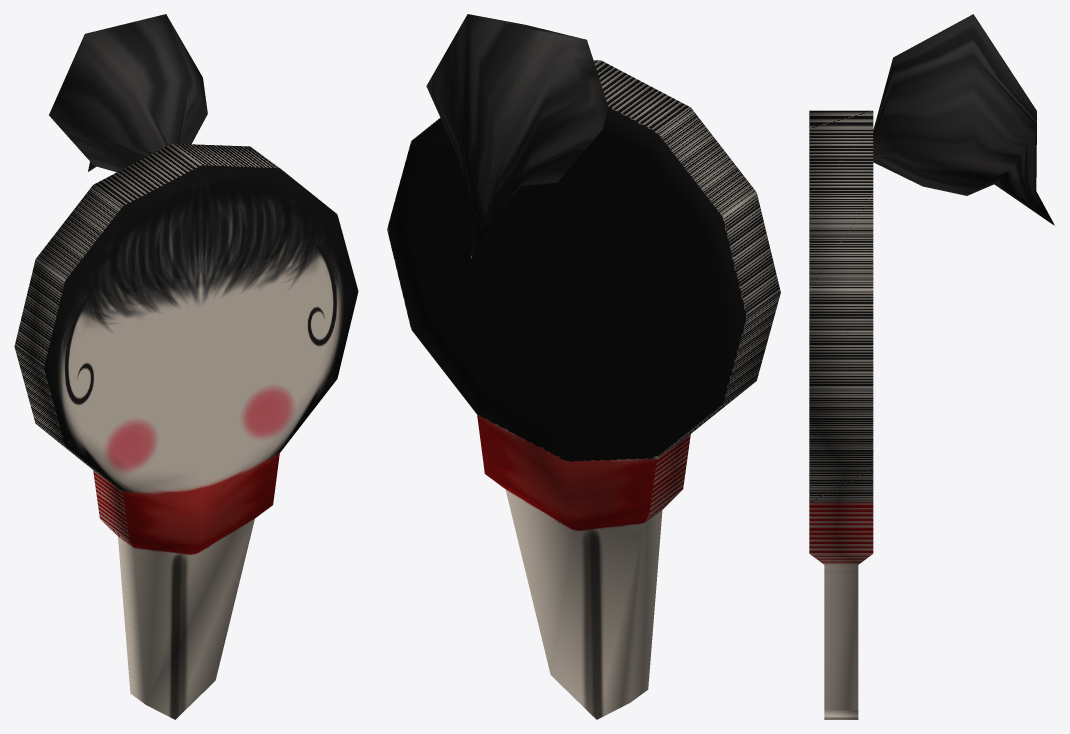
The model's file is key.fbx.
3 renders of one model, left to right at view 1: azimuth 30°, elevation 25°; view 2: azimuth 150°, elevation 25°; view 3: azimuth 270°, elevation 25°, orthographic. The views are drawn at different scales.
Parts seen in each view (by area): view 1: Key; view 2: Key; view 3: Key.
Boxes of the visible parts, x1,y1,x2,y2 form: Key: (14,14,358,719); Key: (387,14,780,719); Key: (809,14,1055,719).
Bounding box in the file's own units: 4.49 × 8.73 × 2.8.
